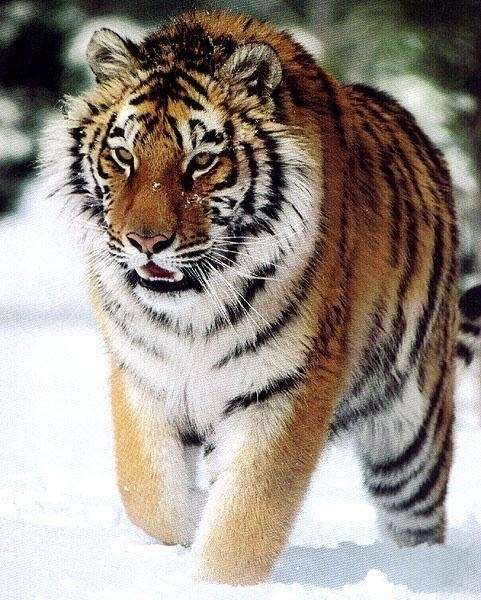tigre: (34, 6, 468, 590)
